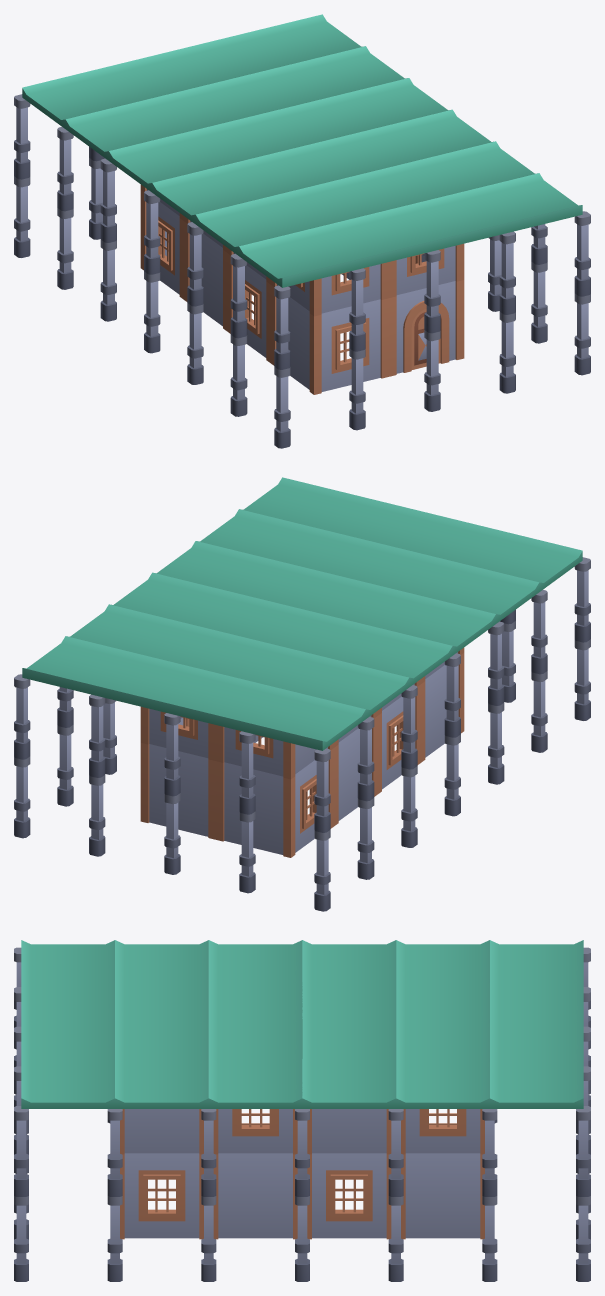
Rendered from temple.glb.
3 views of the same model, one above another, from view 1: azimuth 30°, elevation 25°; view 2: azimuth 150°, elevation 25°; view 3: azimuth 270°, elevation 25° (orthographic). The views are drawn at different scales.
Visible parts, largest first — view 1: temple; view 2: temple; view 3: temple.
Boxes of the visible parts, x1,y1,x2,y2 form: temple: [14, 14, 590, 448]; temple: [14, 477, 590, 911]; temple: [14, 940, 590, 1281].
Size of the model in its own units: 12.48 by 6.38 by 18.48.
Materials: 88 (88 with a texture image).
